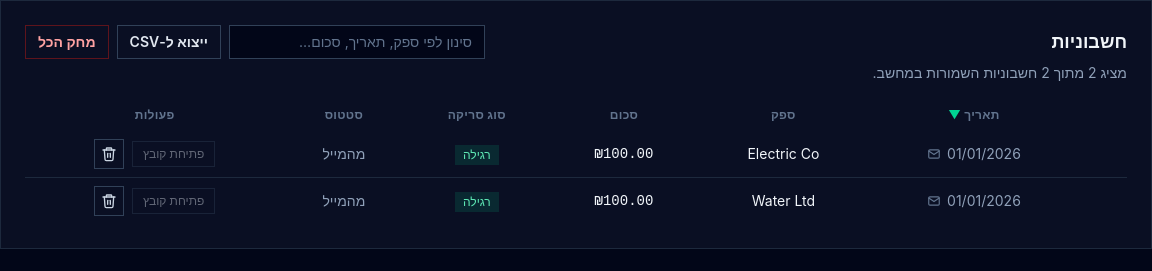
Test: InvoicesTable.vue › exports the filtered rows to CSV via the save dialog (RONY-15)
Narrow to one row, then export — only the shown row should be in the CSV.
Type "electric" into the search field with placeholder "סינון לפי ספק, תאריך, סכום…".
click(357, 42); type("electric")  # box [229,25,485,59]
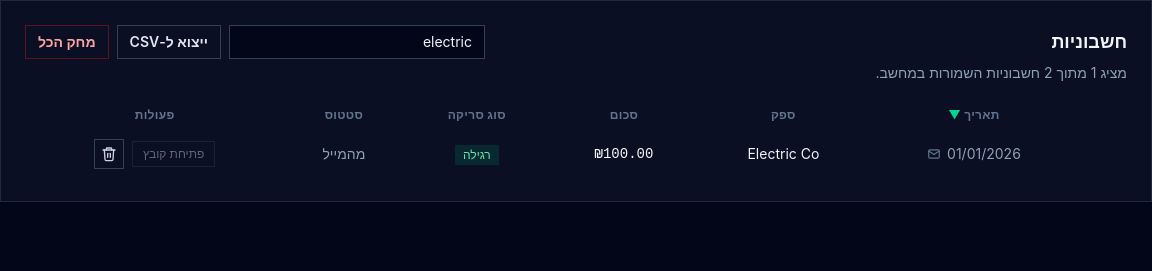
Click the button "ייצוא ל-CSV".
click(169, 42)  # box [117,25,221,59]
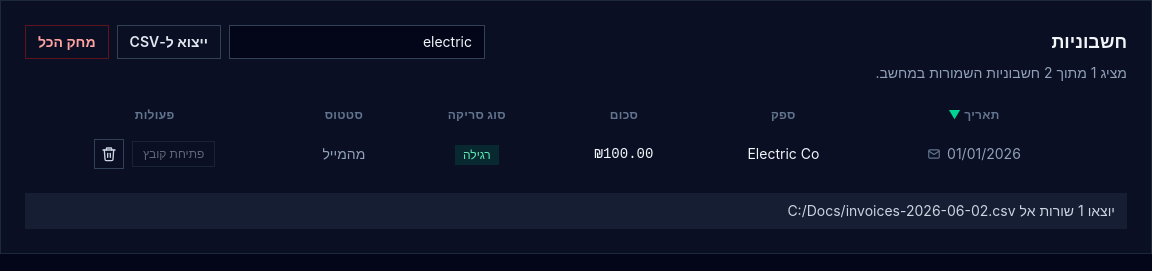
Now the text "יוצאו 1 שורות" is shown, box [787,202,1115,219]
